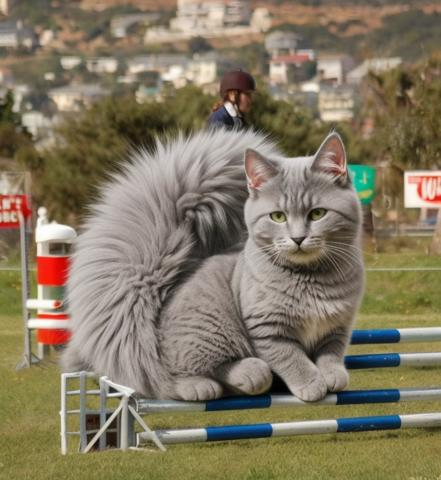cat: (55, 123, 366, 404)
person: (185, 69, 272, 295)
